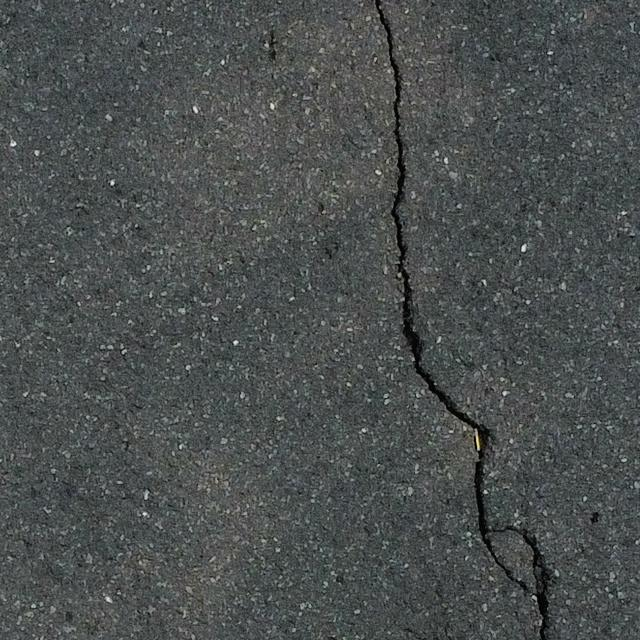LongitudinalCrack: (373, 1, 550, 640)
